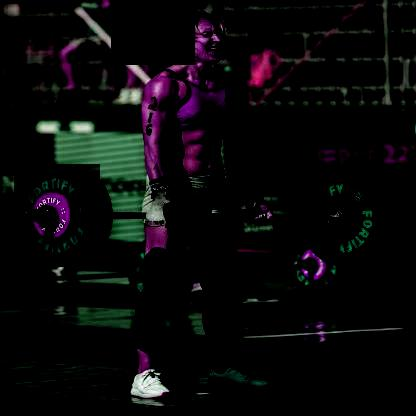barbell: (16, 164, 101, 268), (299, 171, 388, 268)
